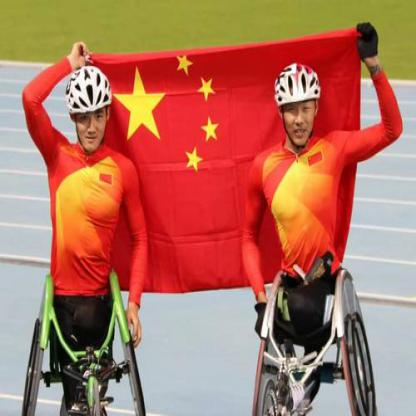wheelchair: (242, 40, 404, 415), (14, 39, 152, 415)
